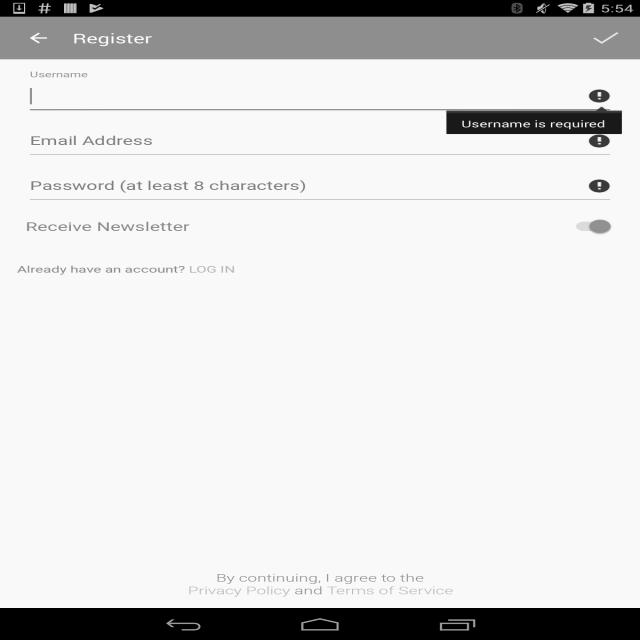Button: (0, 248, 640, 290)
EditText: (26, 77, 614, 115), (26, 122, 614, 160), (26, 167, 614, 205)
ImageButton: (9, 17, 68, 59)
Switch: (564, 218, 614, 235)
TextView: (0, 570, 640, 598), (26, 218, 548, 234), (580, 22, 632, 54), (73, 29, 152, 47)
